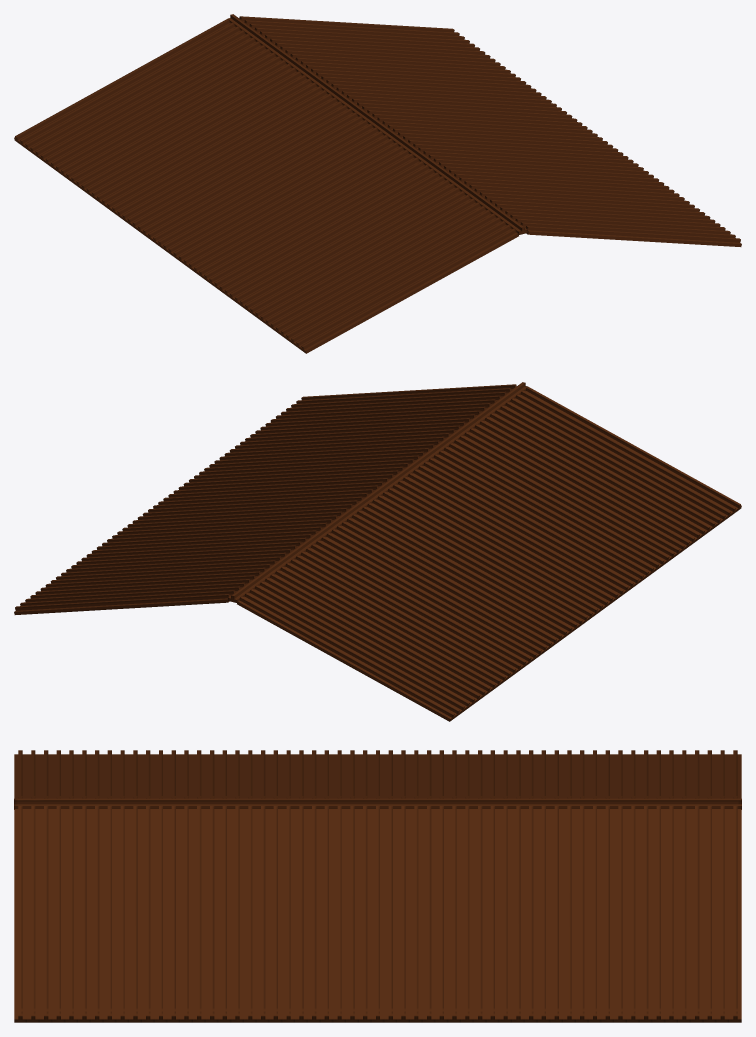
Rendered from ripa-0.fbx.
3 renders of one model, top to bottom at view 1: azimuth 30°, elevation 25°; view 2: azimuth 150°, elevation 25°; view 3: azimuth 270°, elevation 25°, orthographic. The views are drawn at different scales.
Visible parts, largest first — view 1: ripa-0.001; view 2: ripa-0.001; view 3: ripa-0.001.
Part boxes in pixels (x1,y1,x2,y2): ripa-0.001: (14,14,741,353); ripa-0.001: (14,382,741,721); ripa-0.001: (14,750,741,1022).
Bounding box in the file's own units: 14.84 × 2.37 × 17.11.
Materials: 1 (1 with a texture image).
